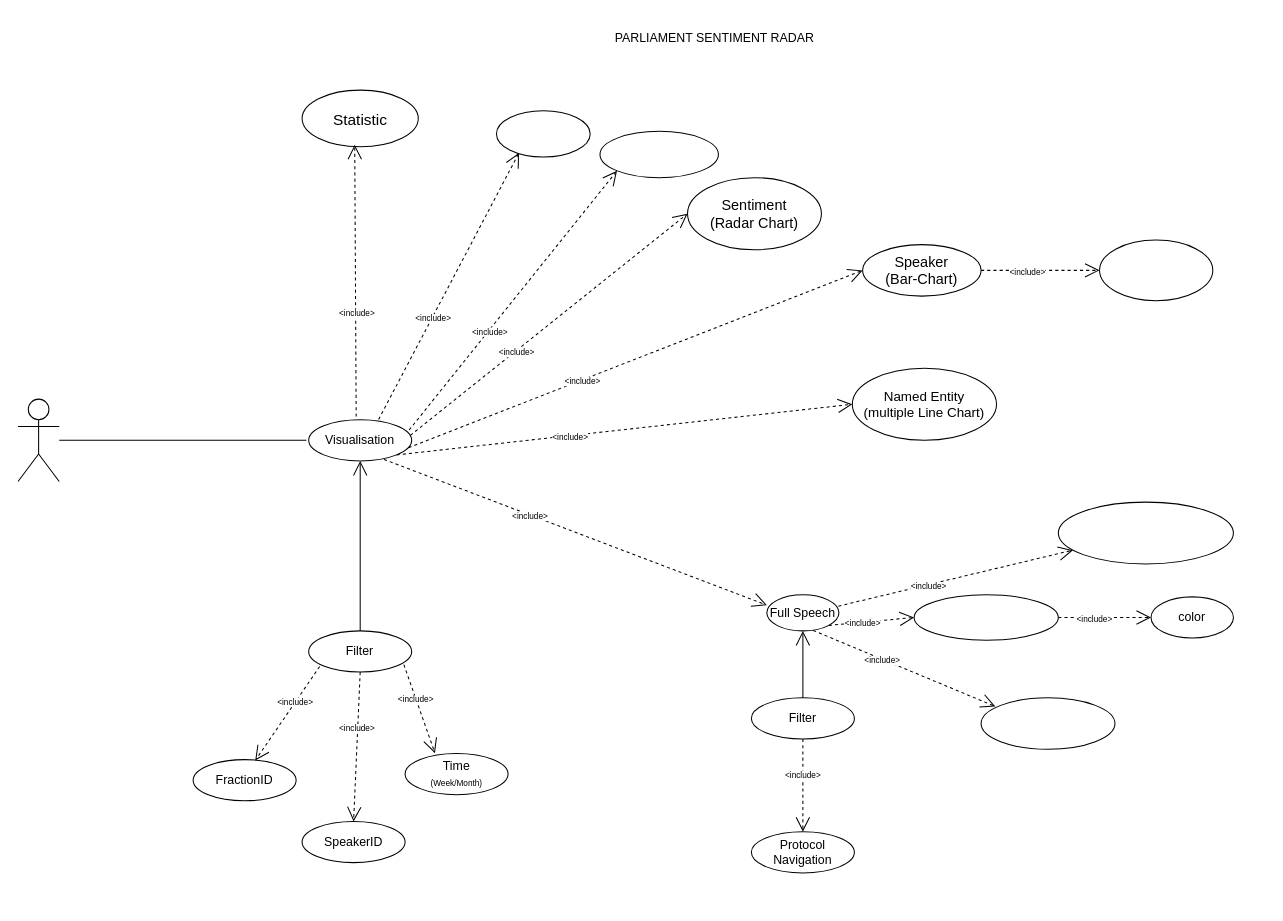
Some shapes in this 1283 by 921 pixel diagram are drawn without their labels. Here are the shapes that lost their labels. From the top down, the box of each, then its label:
(495, 110, 590, 157): TOKEN (Line Chart)
(599, 130, 718, 178): POS (Bar Chart)
(1098, 239, 1213, 301): Speaker-picture
(17, 398, 59, 482): User
(1057, 501, 1233, 564): Fulltext Visualisation
(913, 594, 1058, 640): Named Entities
(980, 697, 1115, 749): Speakerphoto
